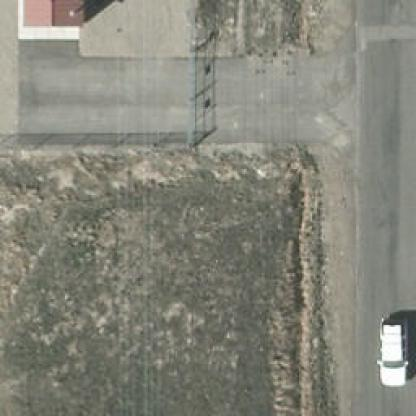car: (375, 314, 408, 386)
